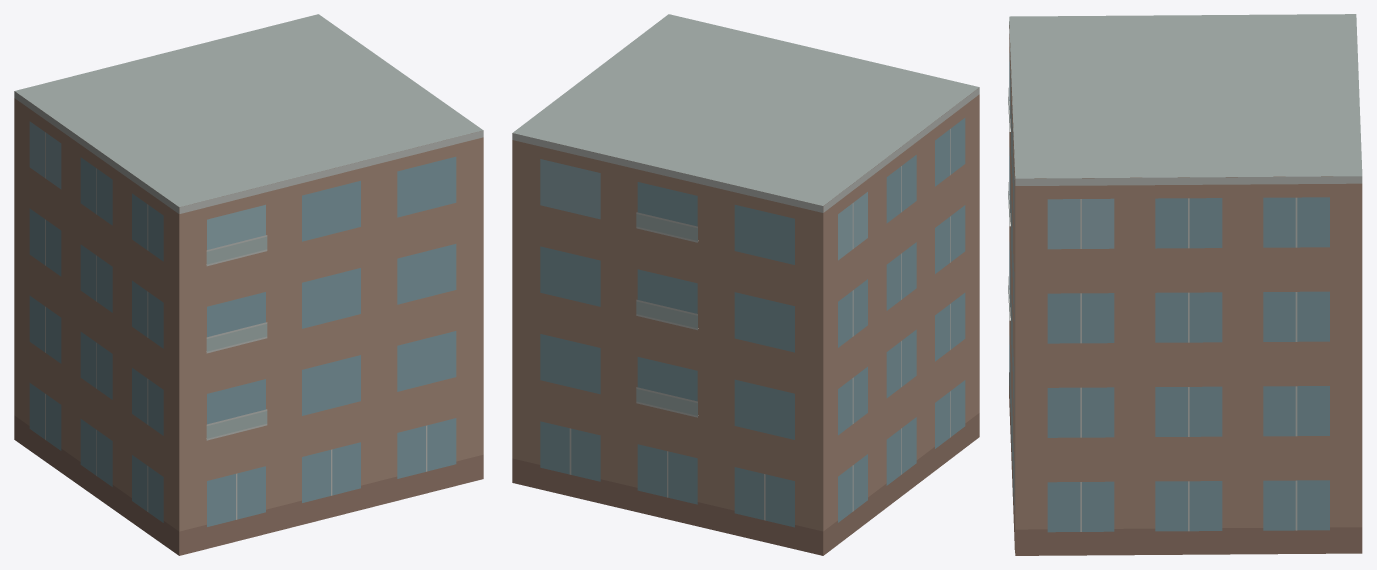
File: residential-baa5a6ee-1fce-4cf1-a85e-8e1addd05ff9.glb
The picture shows the model from 3 angles, left to right: view 1: azimuth 30°, elevation 25°; view 2: azimuth 150°, elevation 25°; view 3: azimuth 270°, elevation 25°; orthographic projection. The views are drawn at different scales.
Visible parts, largest first — view 1: residential-baa5a6ee-1fce-4cf1-a85e-8e1addd05ff9.tmp; view 2: residential-baa5a6ee-1fce-4cf1-a85e-8e1addd05ff9.tmp; view 3: residential-baa5a6ee-1fce-4cf1-a85e-8e1addd05ff9.tmp.
Boxes of the visible parts, x1,y1,x2,y2 form: residential-baa5a6ee-1fce-4cf1-a85e-8e1addd05ff9.tmp: (14, 14, 483, 555); residential-baa5a6ee-1fce-4cf1-a85e-8e1addd05ff9.tmp: (512, 14, 979, 555); residential-baa5a6ee-1fce-4cf1-a85e-8e1addd05ff9.tmp: (1008, 14, 1362, 555).
Bounding box in the file's own units: 11.42 × 12.2 × 10.38.
